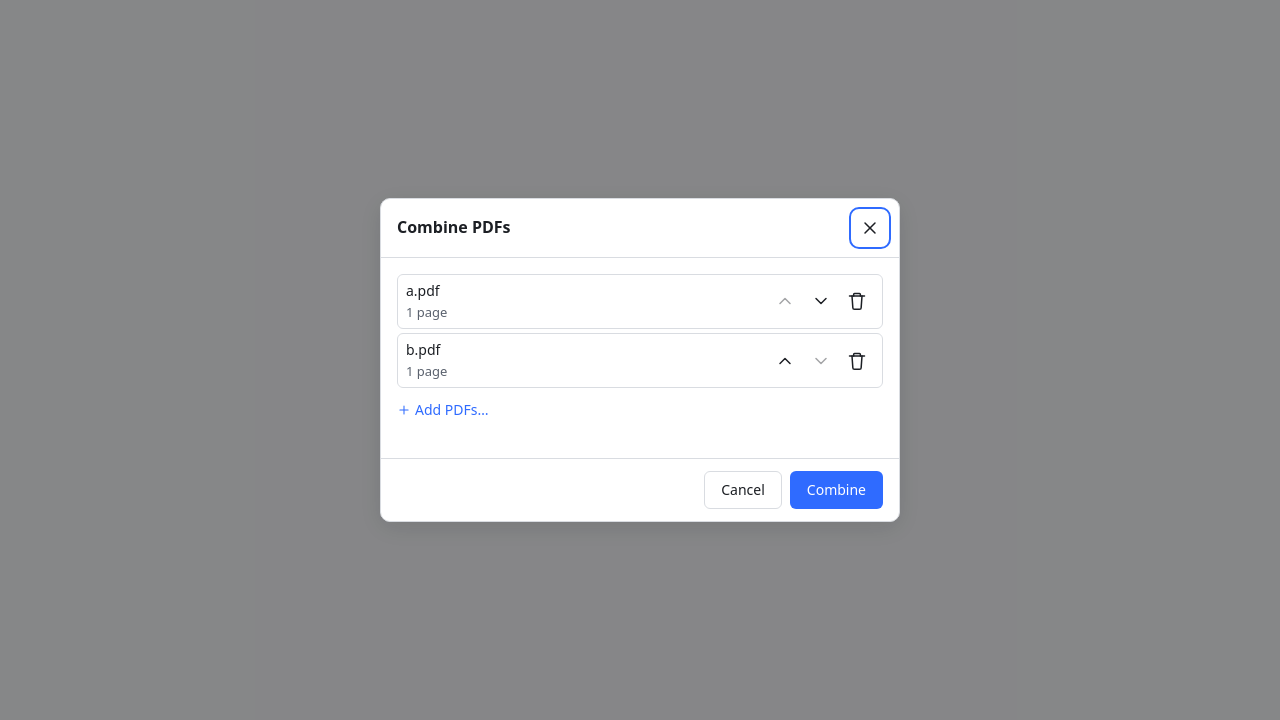
Test: CombineModal › does not report success when loadSource resolves into an error state
// Both files have to finish staging before Combine is clickable at all.
Click the button "Combine" at [836, 490], box [790, 471, 883, 509]
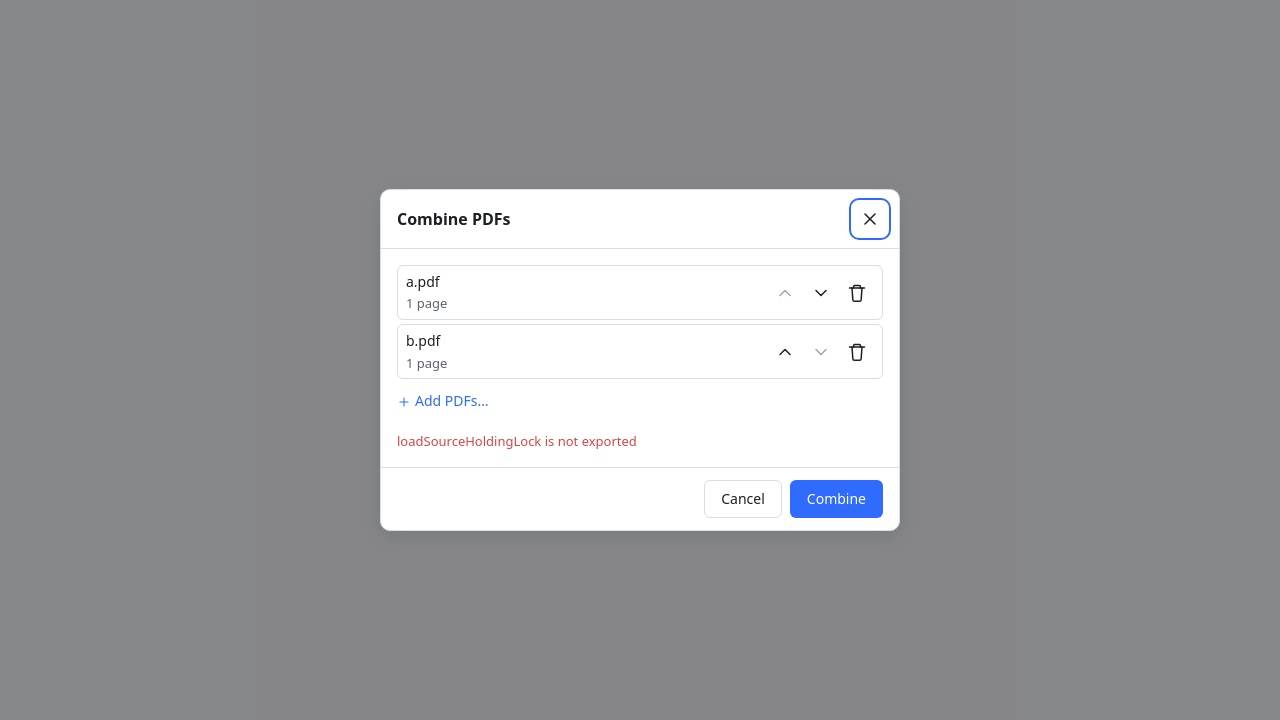
Expected: the message "loadSourceHoldingLock is not exported" is shown, [397, 432, 637, 450]
